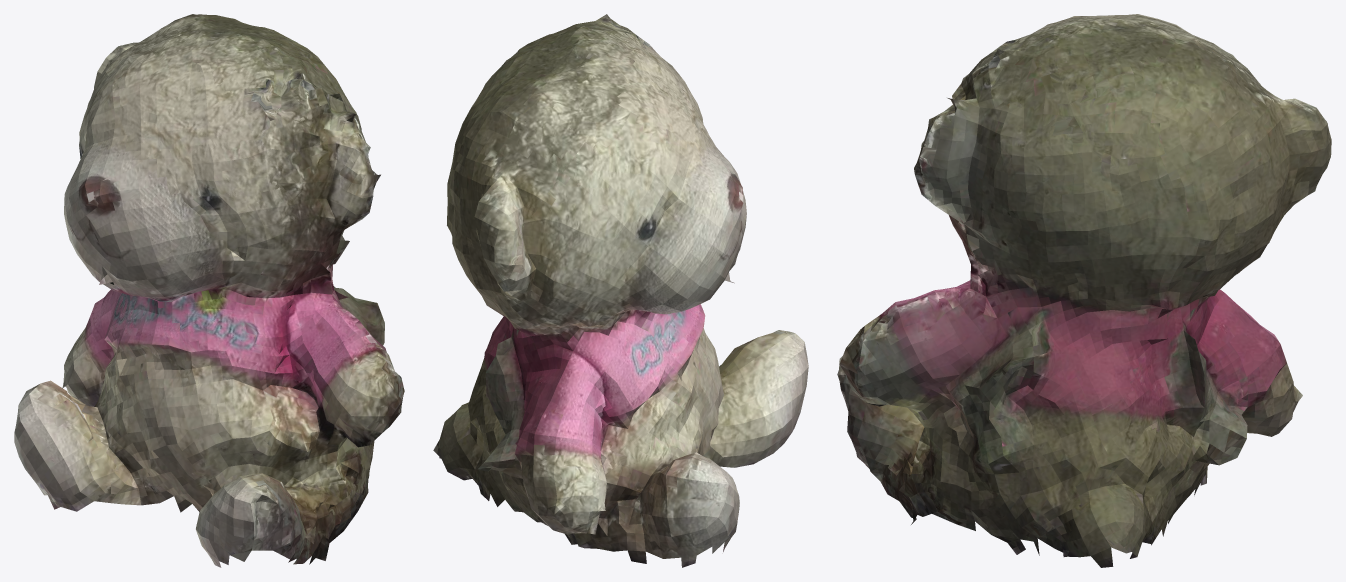
3 views of the same model, side by side, from view 1: azimuth 30°, elevation 25°; view 2: azimuth 150°, elevation 25°; view 3: azimuth 270°, elevation 25° (orthographic). The views are drawn at different scales.
Visible parts, largest first — view 1: old_teddy_bear_low_02:Mesh; view 2: old_teddy_bear_low_02:Mesh; view 3: old_teddy_bear_low_02:Mesh.
Boxes of the visible parts, x1,y1,x2,y2 form: old_teddy_bear_low_02:Mesh: (14, 14, 404, 567); old_teddy_bear_low_02:Mesh: (433, 14, 808, 567); old_teddy_bear_low_02:Mesh: (837, 14, 1331, 567).
Bounding box in the file's own units: 0.2744 × 0.3844 × 0.346.
1 material, 1 textured.
